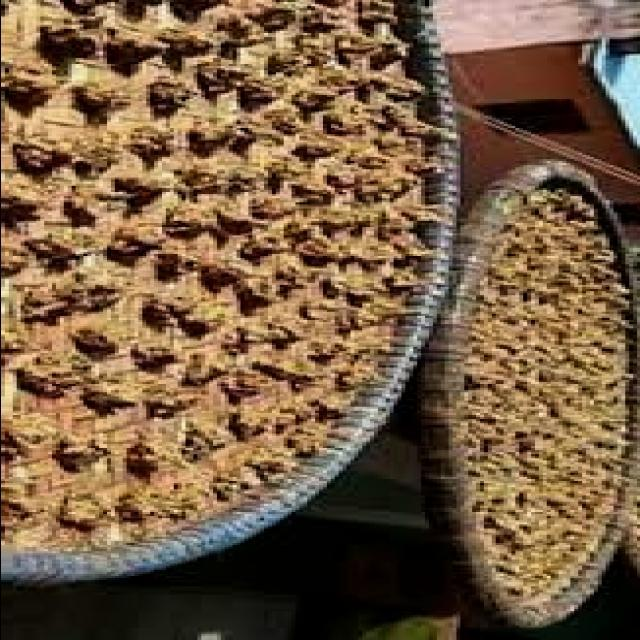NA: (481, 304, 588, 426), (40, 434, 198, 514), (158, 376, 291, 418), (174, 106, 284, 154), (298, 165, 350, 248), (498, 478, 571, 533), (94, 228, 184, 268)
